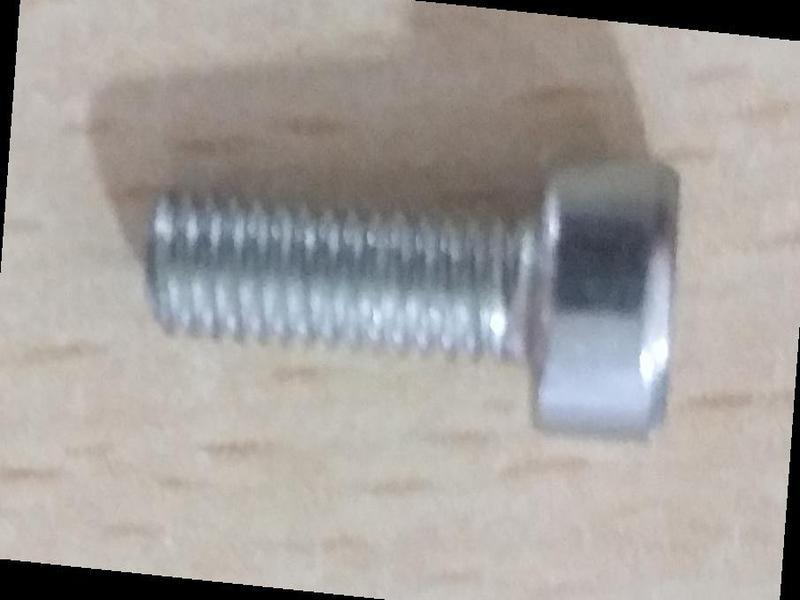smallscrew: (137, 140, 699, 482)
